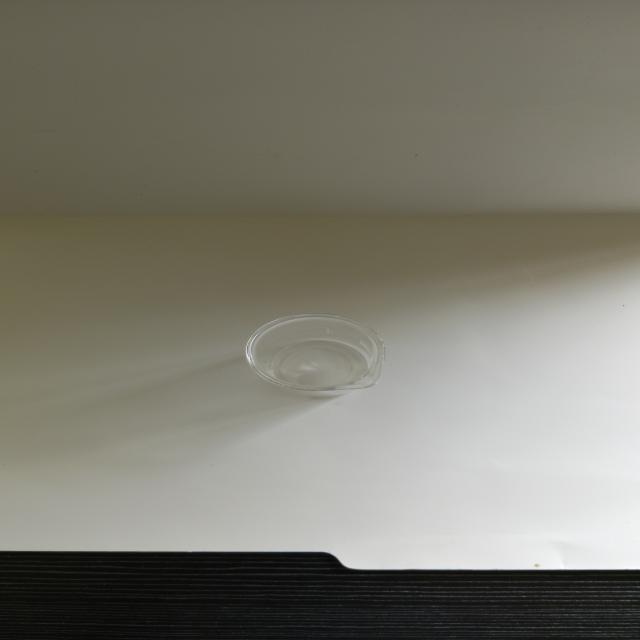beaker: (235, 306, 396, 400)
